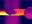Hotspot: (0, 11, 8, 15)
